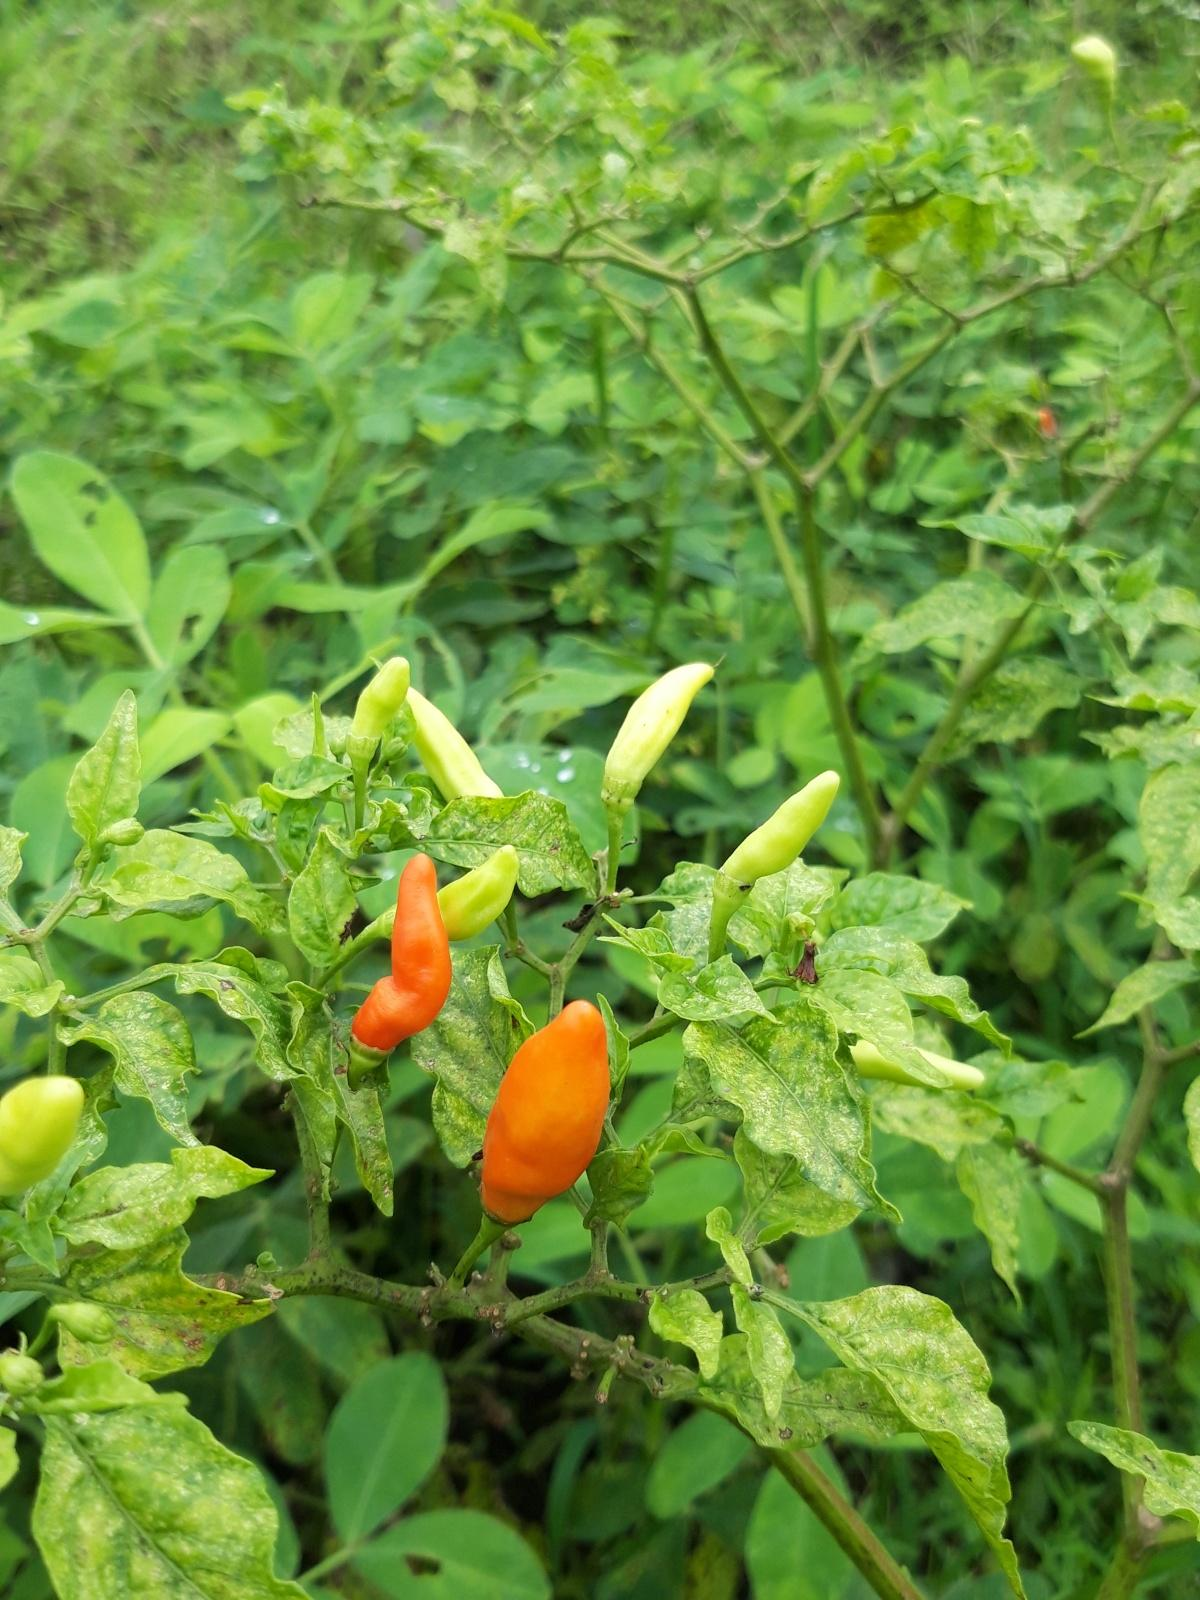cabai_normal: (479, 998, 610, 1226), (350, 853, 453, 1052), (724, 771, 842, 888), (605, 663, 716, 786), (400, 684, 504, 804), (0, 1073, 86, 1196), (440, 844, 521, 941), (349, 658, 411, 742)
